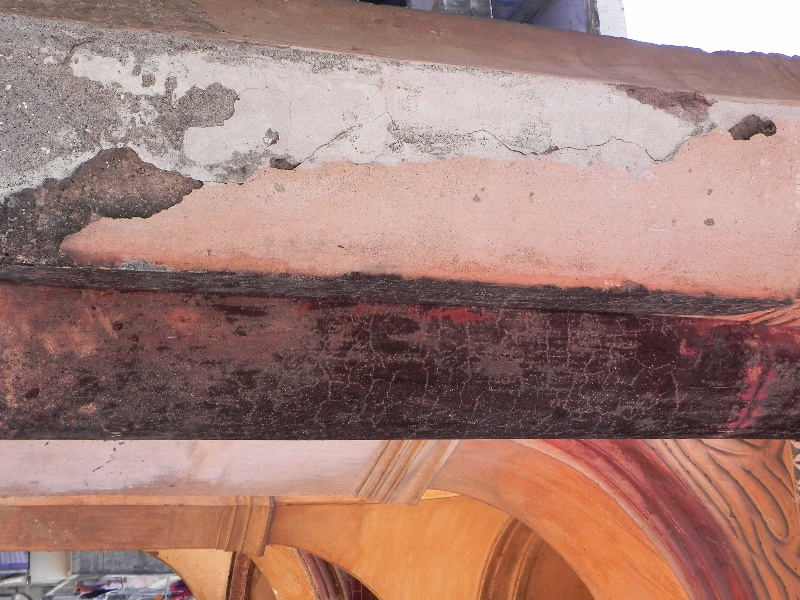Crack: (460, 125, 690, 171), (315, 116, 370, 155)
Spalling: (1, 139, 216, 262), (724, 109, 782, 147)
